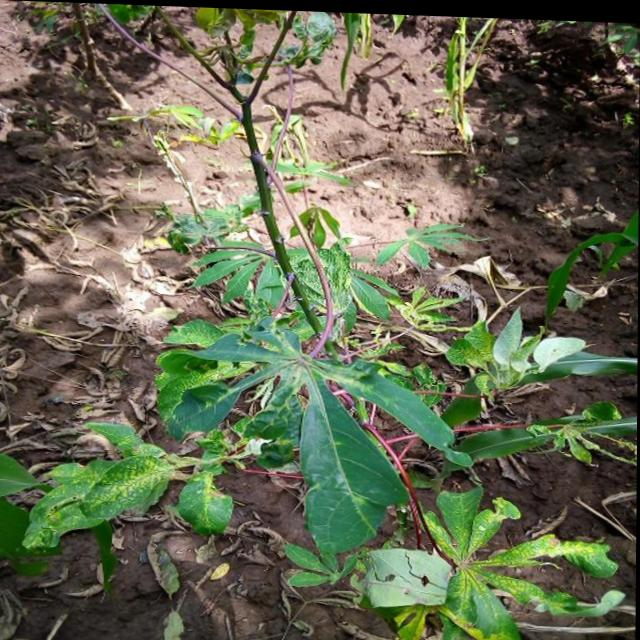Mosaico: (167, 305, 459, 463), (414, 485, 640, 640), (66, 425, 284, 550)
